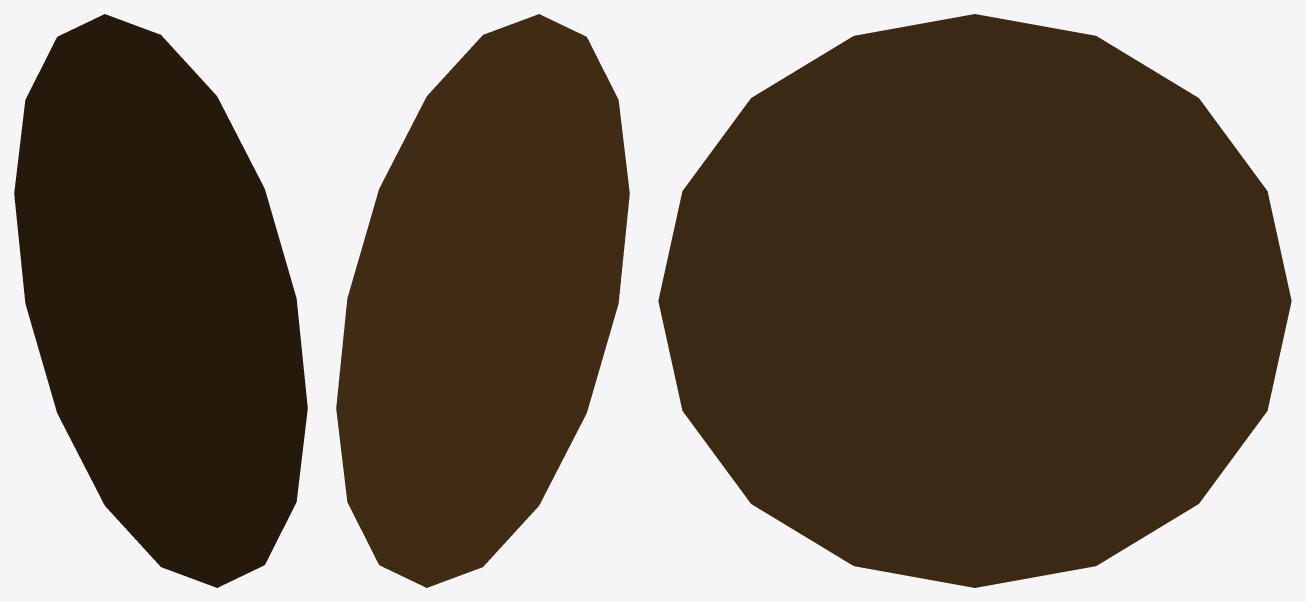
Rendered from WilhelmMole.glb.
The picture shows the model from 3 angles, left to right: view 1: azimuth 30°, elevation 25°; view 2: azimuth 150°, elevation 25°; view 3: azimuth 270°, elevation 25°; orthographic projection. The views are drawn at different scales.
Visible parts, largest first — view 1: WilhelmMole; view 2: WilhelmMole; view 3: WilhelmMole.
Part boxes in pixels (x1,y1,x2,y2): WilhelmMole: (14, 14, 307, 587); WilhelmMole: (336, 14, 629, 587); WilhelmMole: (658, 14, 1291, 587).
Bounding box in the file's own units: 0 × 0.0626 × 0.0626.
